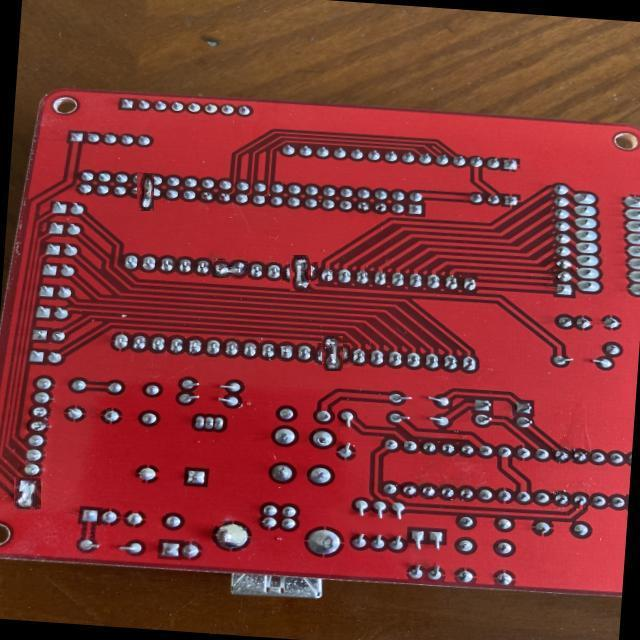damged: (13, 476, 41, 509), (285, 258, 315, 288), (318, 340, 347, 368), (132, 178, 160, 206), (212, 260, 248, 278)
